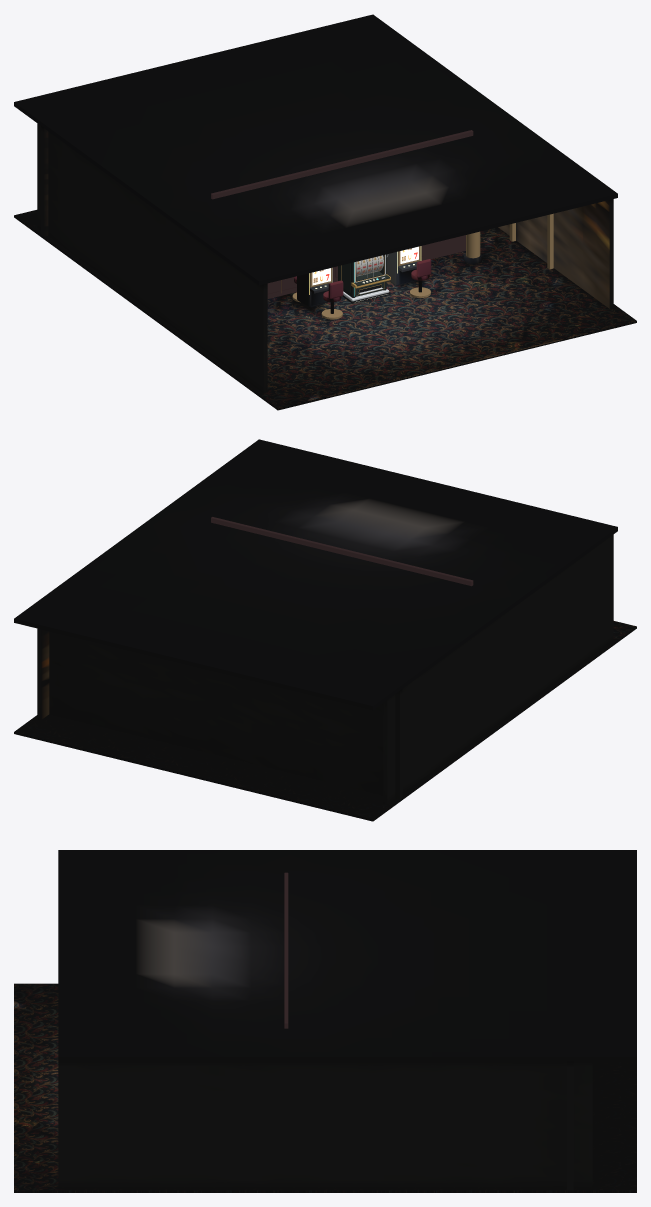
File: garden_atrium.glb
3 renders of one model, top to bottom at view 1: azimuth 30°, elevation 25°; view 2: azimuth 150°, elevation 25°; view 3: azimuth 270°, elevation 25°, orthographic. The views are drawn at different scales.
Parts seen in each view (by area): view 1: Casino_Casino Recessed charcoal ceiling, Casino_Casino Woven casino carpet, Casino_Casino Warm woven wall panels, Lounge_Velvet, Casino_Casino Brushed champagne bronze, Casino_Casino Graphite cabinet, Casino_Casino Oxblood leather, Cabinet_Enamel; view 2: Casino_Casino Recessed charcoal ceiling, Casino_Casino Warm woven wall panels, Casino_Casino Woven casino carpet, Lounge_Velvet; view 3: Casino_Casino Recessed charcoal ceiling, Casino_Casino Warm woven wall panels, Casino_Casino Woven casino carpet, Lounge_Velvet.
Part boxes in pixels (bbox=[...]): Casino_Casino Recessed charcoal ceiling: bbox=[14, 14, 617, 285]; Casino_Casino Woven casino carpet: bbox=[14, 210, 636, 410]; Casino_Casino Warm woven wall panels: bbox=[37, 123, 613, 393]; Lounge_Velvet: bbox=[211, 130, 473, 298]; Casino_Casino Brushed champagne bronze: bbox=[292, 213, 553, 319]; Casino_Casino Graphite cabinet: bbox=[297, 252, 482, 313]; Casino_Casino Oxblood leather: bbox=[294, 259, 431, 302]; Cabinet_Enamel: bbox=[339, 263, 389, 296]; Casino_Casino Recessed charcoal ceiling: bbox=[14, 439, 617, 710]; Casino_Casino Warm woven wall panels: bbox=[37, 534, 613, 804]; Casino_Casino Woven casino carpet: bbox=[14, 621, 636, 821]; Lounge_Velvet: bbox=[211, 517, 473, 586]; Casino_Casino Recessed charcoal ceiling: bbox=[58, 850, 636, 1061]; Casino_Casino Warm woven wall panels: bbox=[58, 1061, 592, 1190]; Casino_Casino Woven casino carpet: bbox=[14, 983, 636, 1192]; Lounge_Velvet: bbox=[284, 872, 288, 1028].
Size of the model in its own units: 11 by 3.52 by 14.
25 materials, 5 textured.
